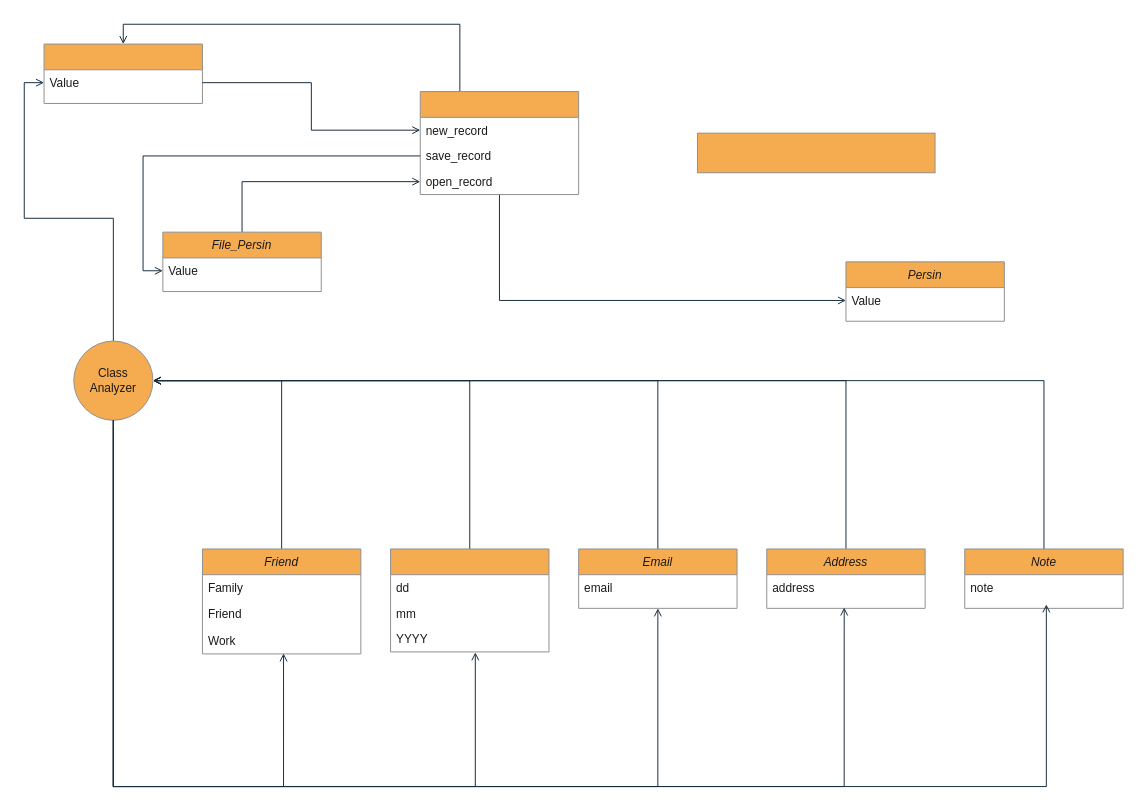
Image size: 1140x812. Some labels were removed from this diagram. The shapes that lost their labels are listed below. From the top down, each one's box as (x1, y1, x2, y2) in pixels, then its label:
(43, 43, 202, 103): Record
(419, 91, 579, 195): AddressBook
(696, 132, 935, 173): Personal assistant
(390, 548, 549, 652): Day
